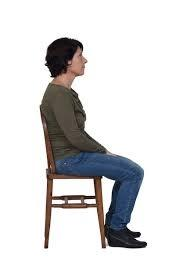good-pose: (0, 0, 183, 275)
